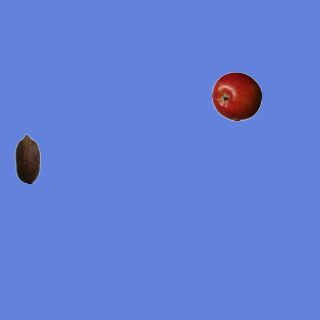Apple Braeburn: (211, 71, 261, 121)
Nut Pecan: (2, 133, 52, 183)
